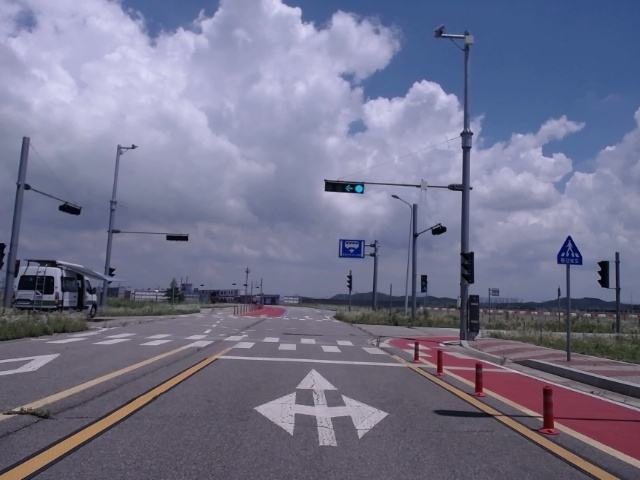all_green_4: (324, 180, 365, 195)
